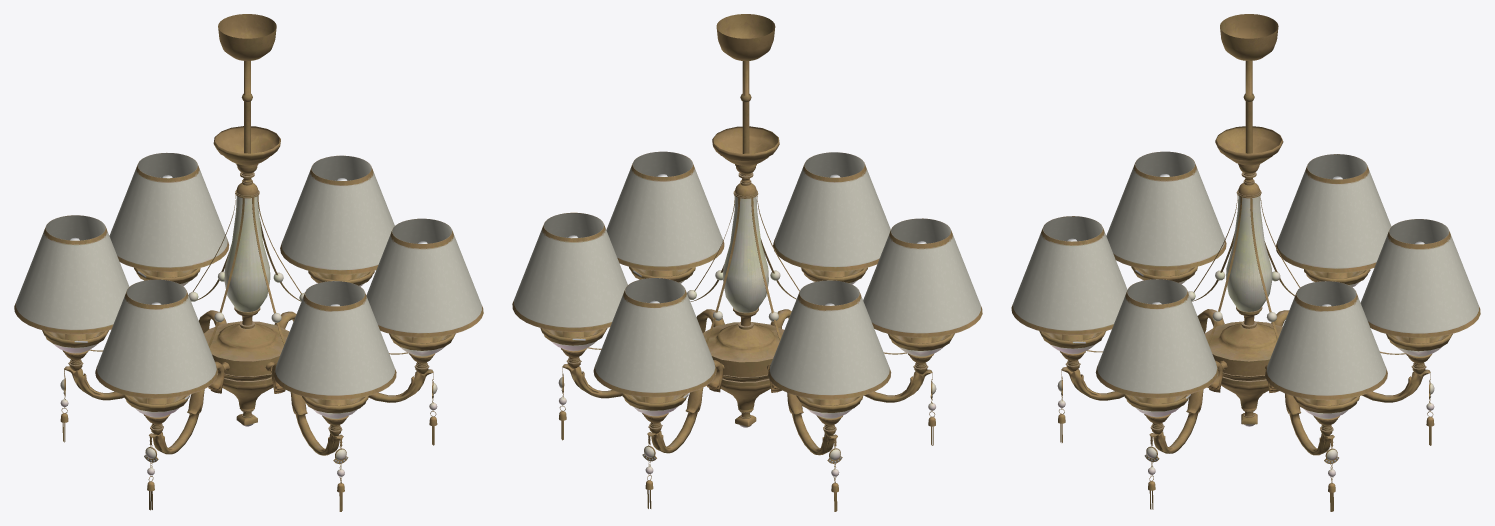
File: chandelier_01_4k-v2.glb
3 views of the same model, side by side, from view 1: azimuth 30°, elevation 25°; view 2: azimuth 150°, elevation 25°; view 3: azimuth 270°, elevation 25° (orthographic).
Visible parts, largest first — view 1: Chandelier_01; view 2: Chandelier_01; view 3: Chandelier_01.
Part boxes in pixels (x1,y1,x2,y2): Chandelier_01: (14,14,483,511); Chandelier_01: (512,14,982,511); Chandelier_01: (1011,14,1480,511).
Bounding box in the file's own units: 0.7465 × 0.7983 × 0.8155.
2 materials, 1 textured.
